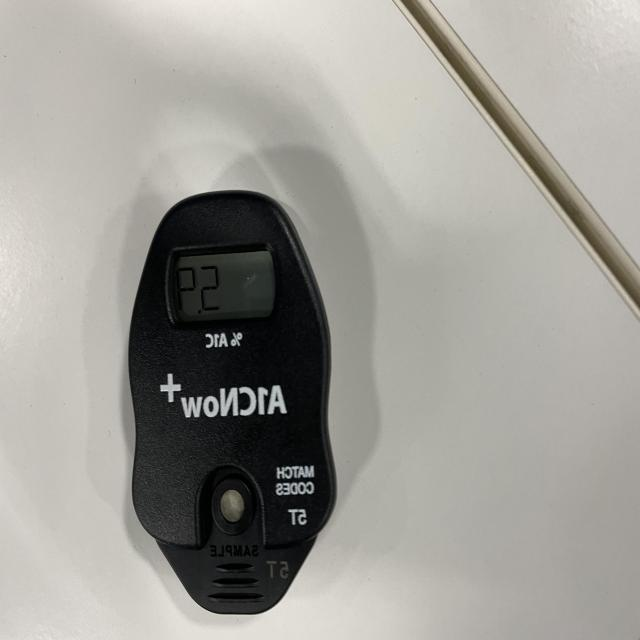hba1c: (125, 191, 338, 618)
